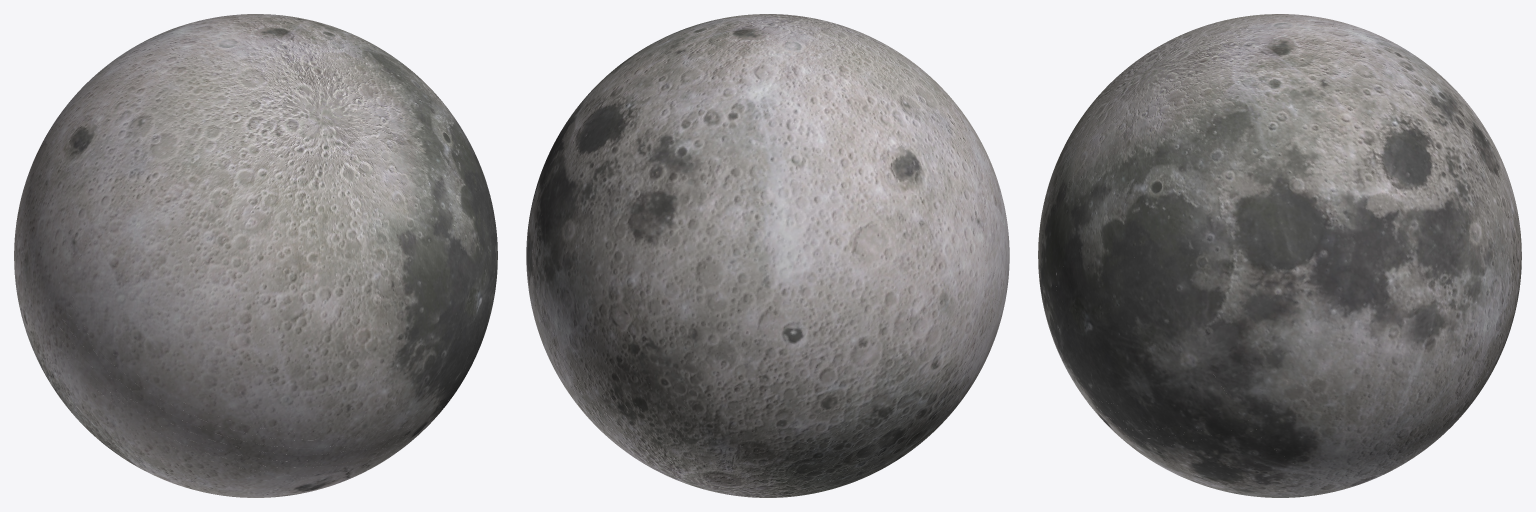
File: moon.glb
3 views of the same model, side by side, from view 1: azimuth 30°, elevation 25°; view 2: azimuth 150°, elevation 25°; view 3: azimuth 270°, elevation 25° (orthographic).
Parts seen in each view (by area): view 1: Sphere_Material.001_0.003, Sphere_Material.001_0.002, Sphere, Sphere_Material.001_0.001, Sphere_Material.001_0.004; view 2: Sphere, Sphere_Material.001_0.001, Sphere_Material.001_0.002, Sphere_Material.001_0.003; view 3: Sphere_Material.001_0.001, Sphere_Material.001_0.002, Sphere_Material.001_0.003, Sphere, Sphere_Material.001_0.004.
Part boxes in pixels (<box>): Sphere_Material.001_0.003: <box>36,78,480,497</box>; Sphere_Material.001_0.002: <box>49,20,497,477</box>; Sphere: <box>14,54,322,393</box>; Sphere_Material.001_0.001: <box>91,14,344,467</box>; Sphere_Material.001_0.004: <box>309,40,472,466</box>; Sphere: <box>533,22,986,491</box>; Sphere_Material.001_0.001: <box>526,17,844,497</box>; Sphere_Material.001_0.002: <box>558,14,1009,493</box>; Sphere_Material.001_0.003: <box>709,43,1007,491</box>; Sphere_Material.001_0.001: <box>1150,16,1509,497</box>; Sphere_Material.001_0.002: <box>1040,43,1421,445</box>; Sphere_Material.001_0.003: <box>1038,47,1303,494</box>; Sphere: <box>1149,14,1521,457</box>; Sphere_Material.001_0.004: <box>1071,56,1257,445</box>.
Bounding box in the file's own units: 2 × 2 × 2.
Materials: 1 (1 with a texture image).
